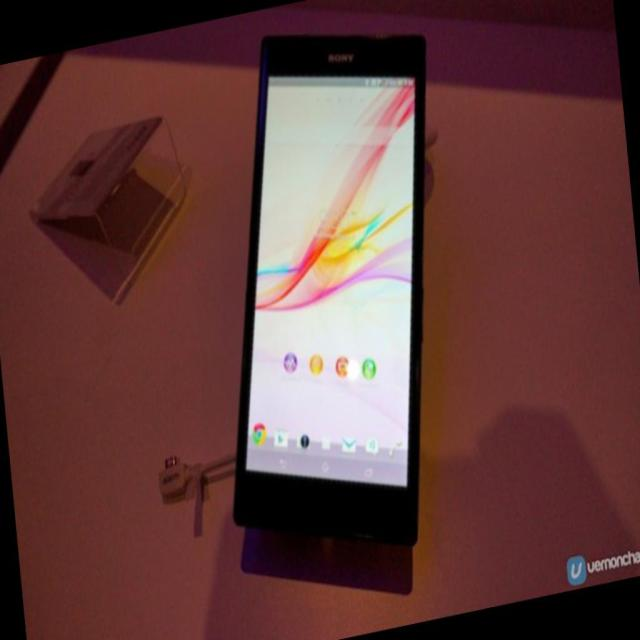handphone: (232, 36, 426, 544)
